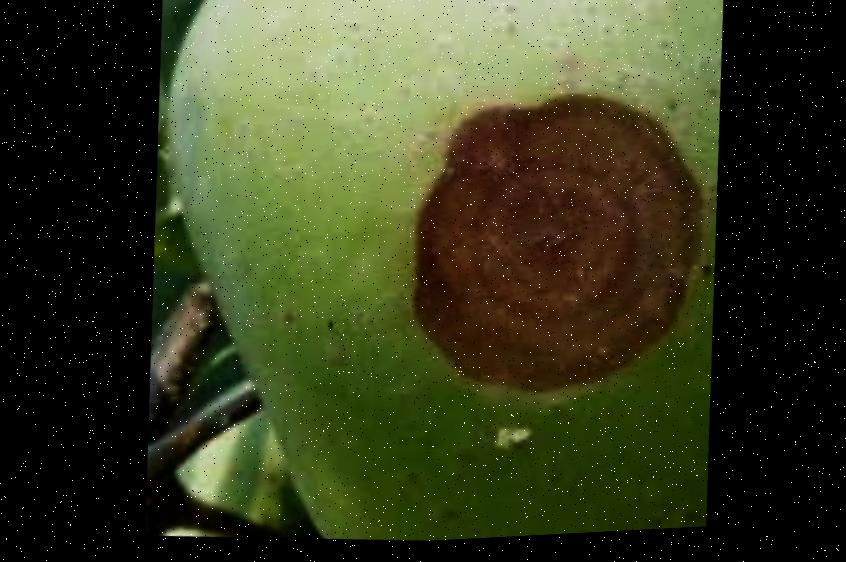BLOTCH: (138, 0, 744, 555)
